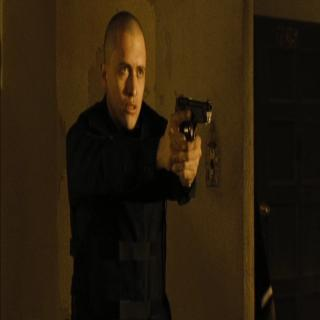gun: (165, 83, 214, 182)
